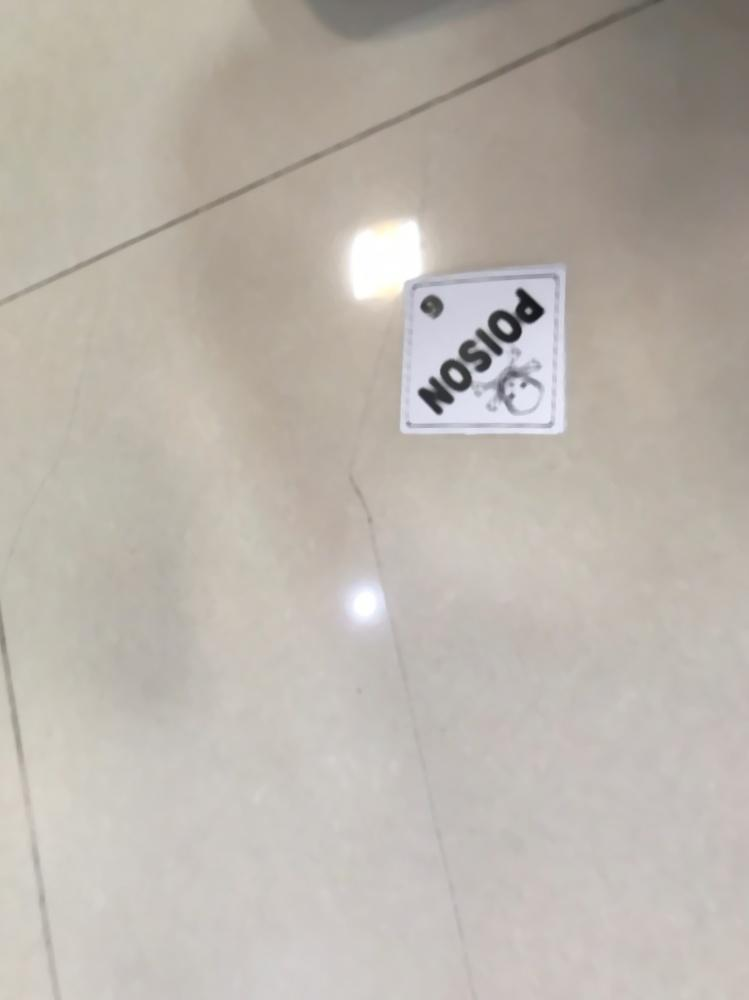poison: (392, 264, 577, 438)
